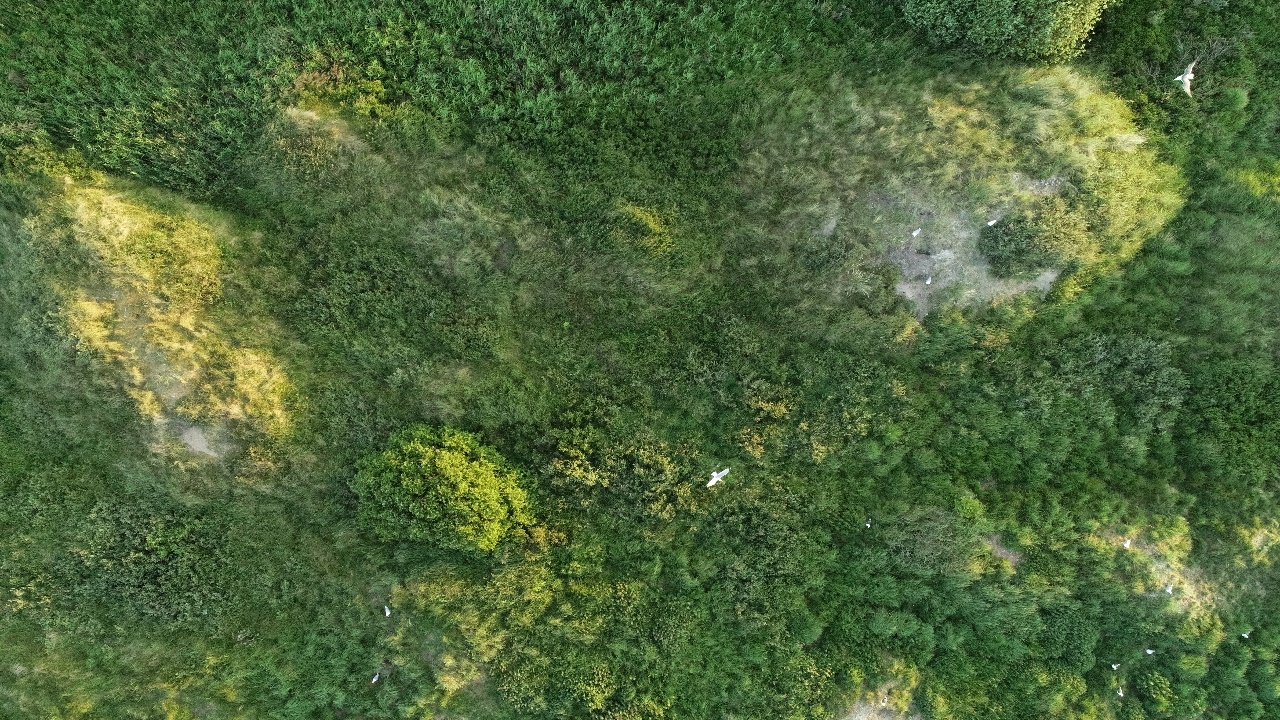Bird: (1170, 51, 1207, 102), (700, 462, 738, 494), (915, 267, 943, 294), (901, 218, 929, 245), (977, 207, 1005, 234), (1158, 574, 1186, 601), (1113, 528, 1141, 555), (1137, 633, 1165, 660), (1103, 650, 1131, 677), (1109, 678, 1137, 705), (374, 597, 402, 624), (362, 661, 390, 688), (856, 508, 884, 535)
